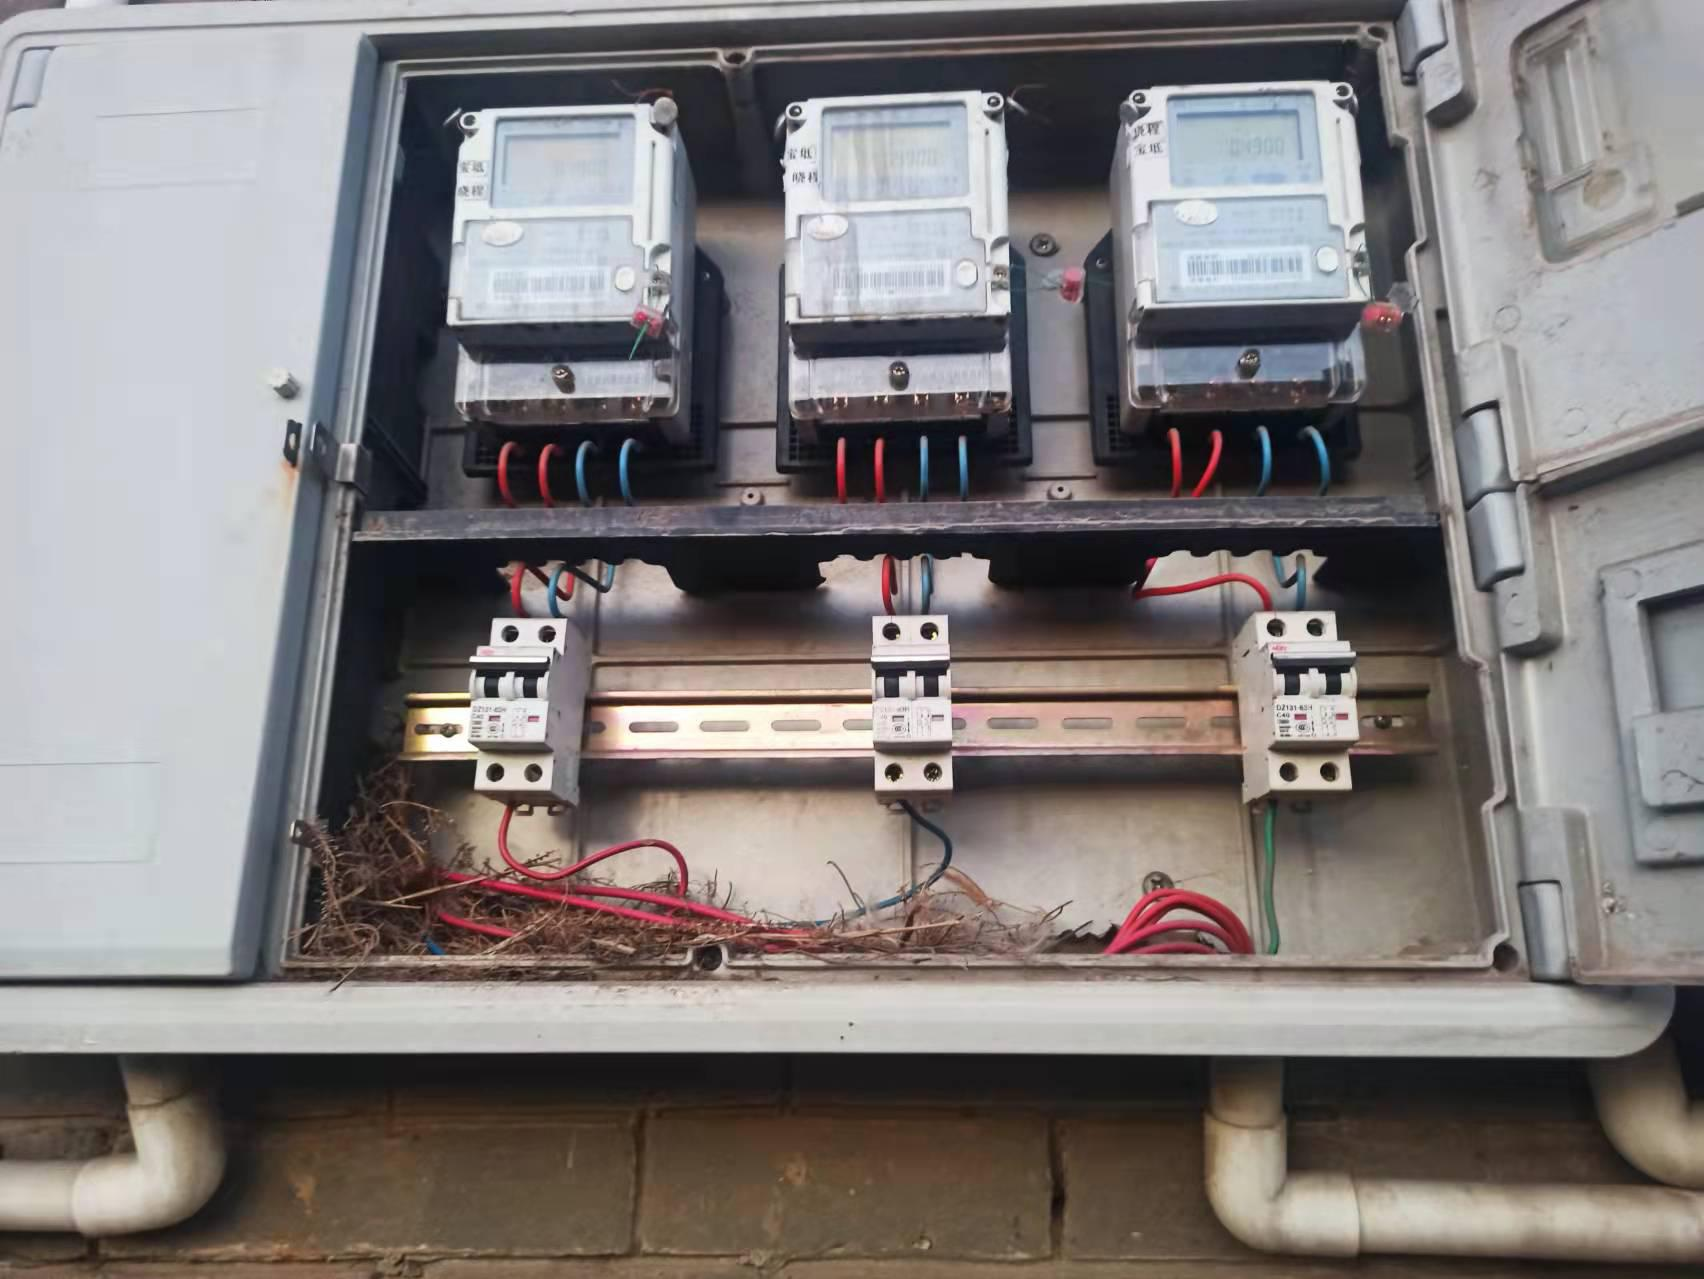digital: (1129, 81, 1367, 305), (775, 93, 1006, 318), (447, 105, 667, 322)
